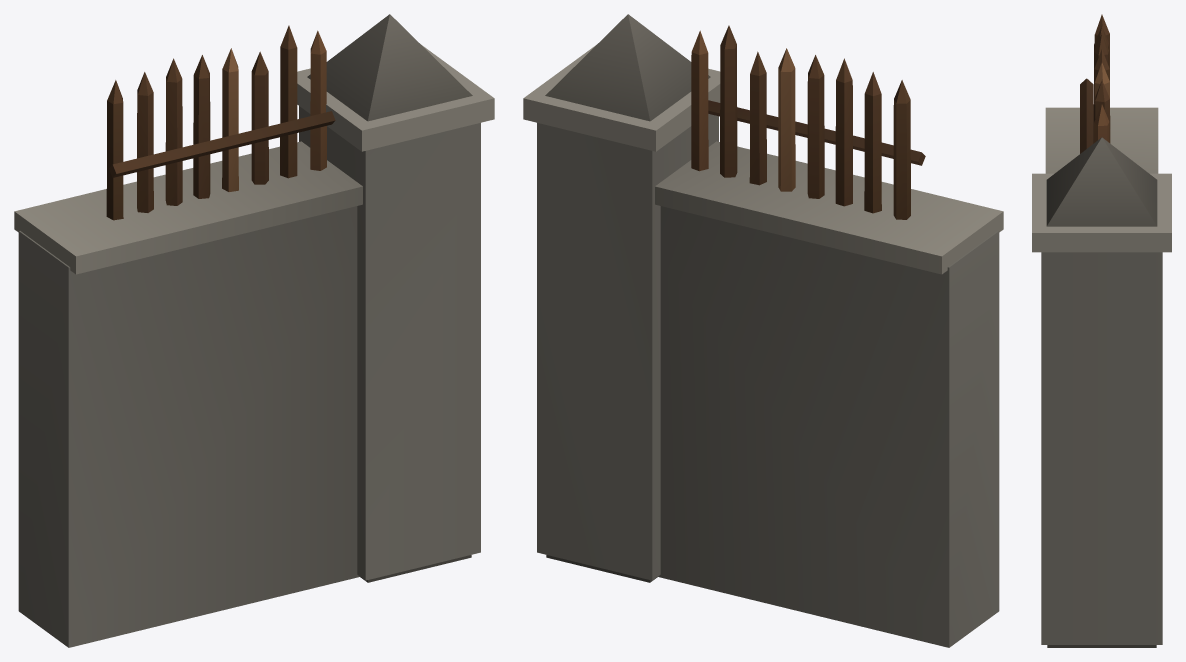
Rendered from fence_stonewall_tall_low.glb.
The picture shows the model from 3 angles, left to right: view 1: azimuth 30°, elevation 25°; view 2: azimuth 150°, elevation 25°; view 3: azimuth 270°, elevation 25°; orthographic projection. The views are drawn at different scales.
Parts seen in each view (by area): view 1: fence_stonewall_tall; view 2: fence_stonewall_tall; view 3: fence_stonewall_tall.
Boxes of the visible parts, bbox=[...] form: fence_stonewall_tall: bbox=[14, 14, 494, 647]; fence_stonewall_tall: bbox=[523, 14, 1003, 647]; fence_stonewall_tall: bbox=[1032, 14, 1171, 647].
Bounding box in the file's own units: 2.86 × 3.63 × 0.92.
